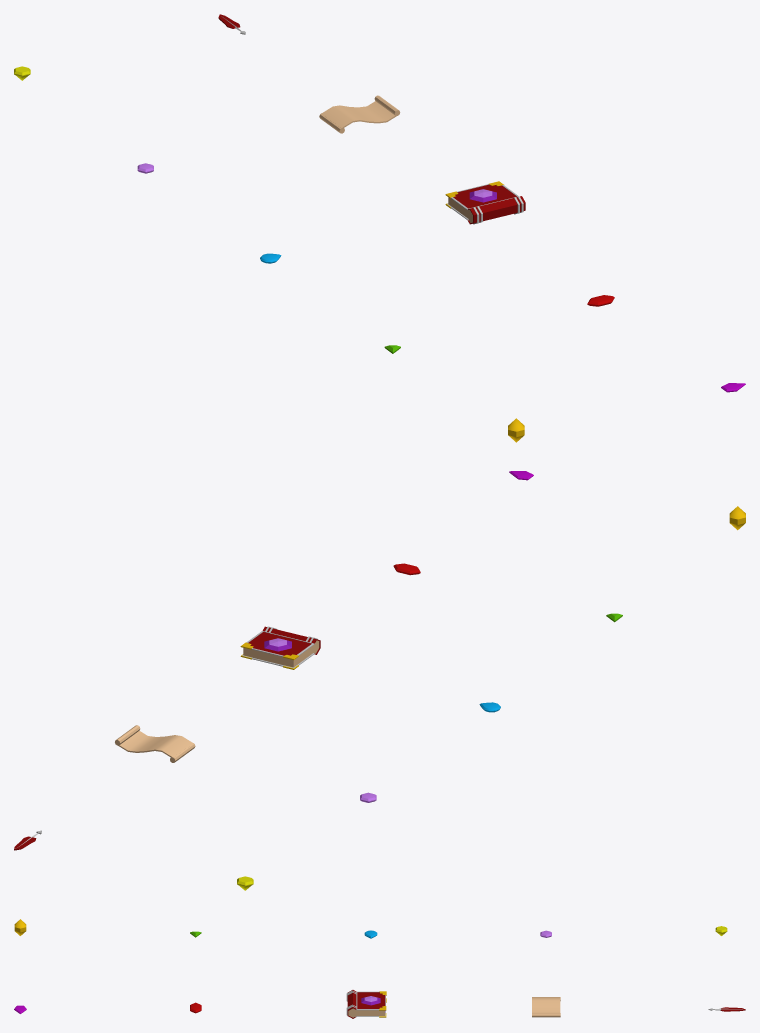
The model's file is stenen, book, schrijfset kleur.fbx.
3 views of the same model, one above another, from view 1: azimuth 30°, elevation 25°; view 2: azimuth 150°, elevation 25°; view 3: azimuth 270°, elevation 25° (orthographic). The views are drawn at different scales.
Parts seen in each view (by area): view 1: book, scroll; view 2: book, scroll; view 3: book, scroll.
Boxes of the visible parts, left/top/right/bottom form: book: left=445, top=181, right=525, bottom=224; scroll: left=319, top=95, right=400, bottom=133; book: left=240, top=626, right=320, bottom=669; scroll: left=115, top=725, right=195, bottom=762; book: left=346, top=990, right=386, bottom=1018; scroll: left=532, top=997, right=560, bottom=1017.
Bounding box in the file's own units: 1.18 × 0.1222 × 4.18.
